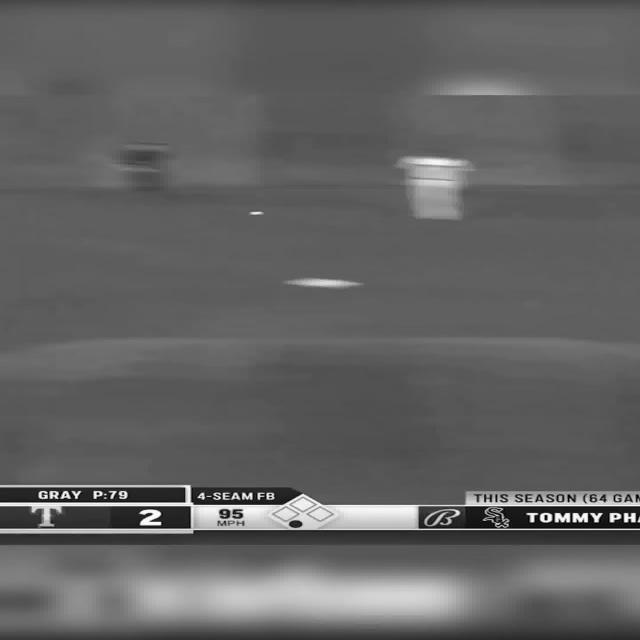baseball: (249, 211, 264, 216)
